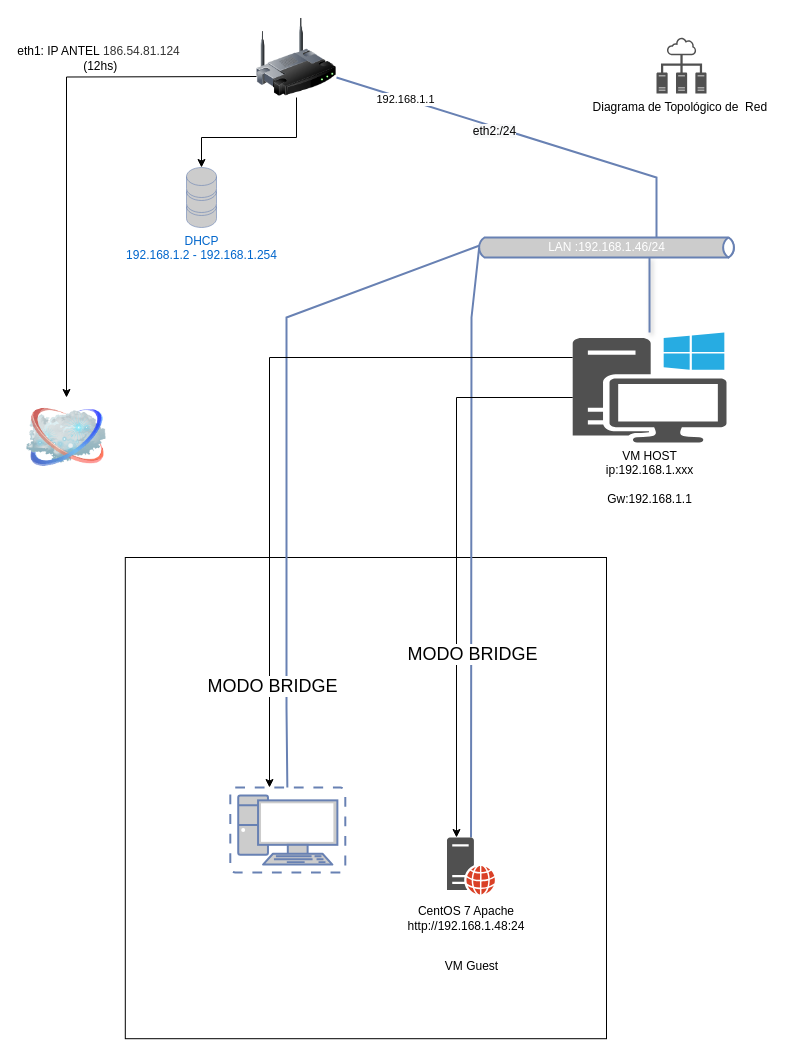
This 788x1056 diagram has some shape labels left out. Each missing label, with the centre of its shape:
INTERNET: point 66,437
Ubuntu 20.04 192.168.1.52 VM Guest: point 287,829
